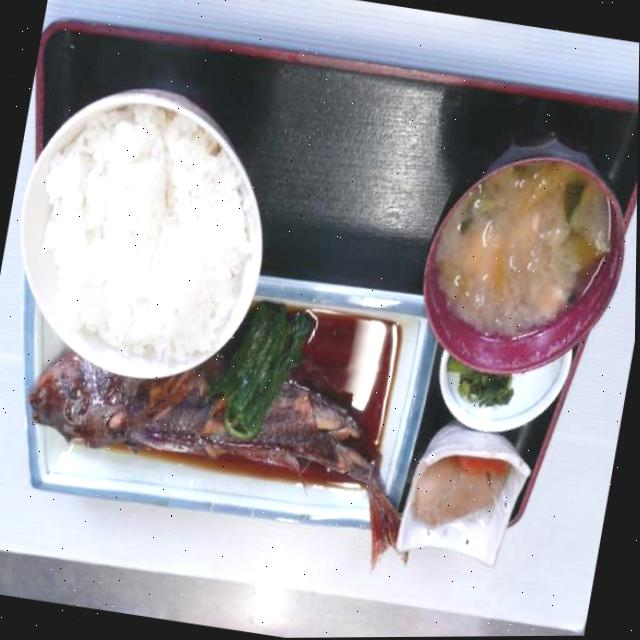熟制海鲜: (0, 289, 442, 594)
